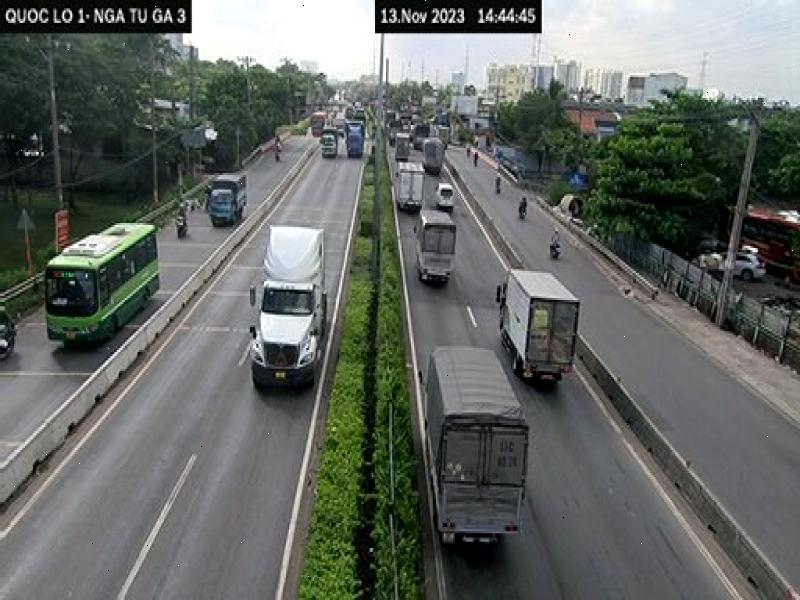bus: (45, 218, 167, 353)
truck: (424, 338, 531, 554), (249, 216, 328, 376)
